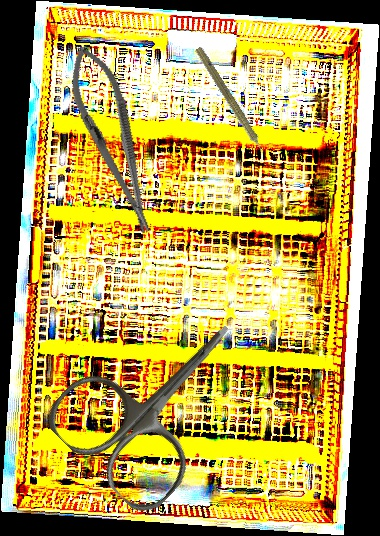Handpiece: (190, 44, 273, 165)
Iris Scissors: (38, 277, 282, 521)
Needle Holder: (57, 39, 169, 241)
